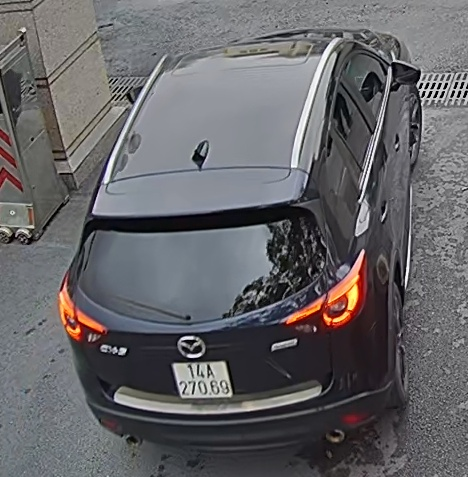vehicle plate: (167, 353, 239, 408)
